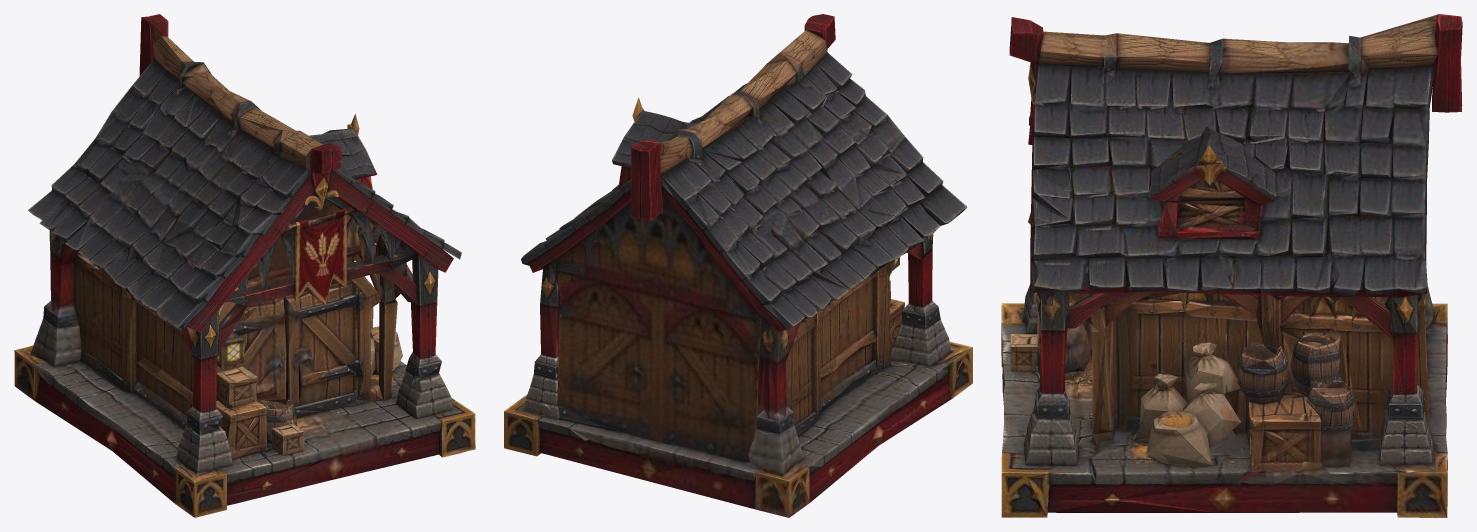
Rendered from storage.glb.
3 views of the same model, side by side, from view 1: azimuth 30°, elevation 25°; view 2: azimuth 150°, elevation 25°; view 3: azimuth 270°, elevation 25° (orthographic). The views are drawn at different scales.
Bounding box in the file's own units: 1.69 × 1.88 × 1.9.
1 material, 1 textured.
